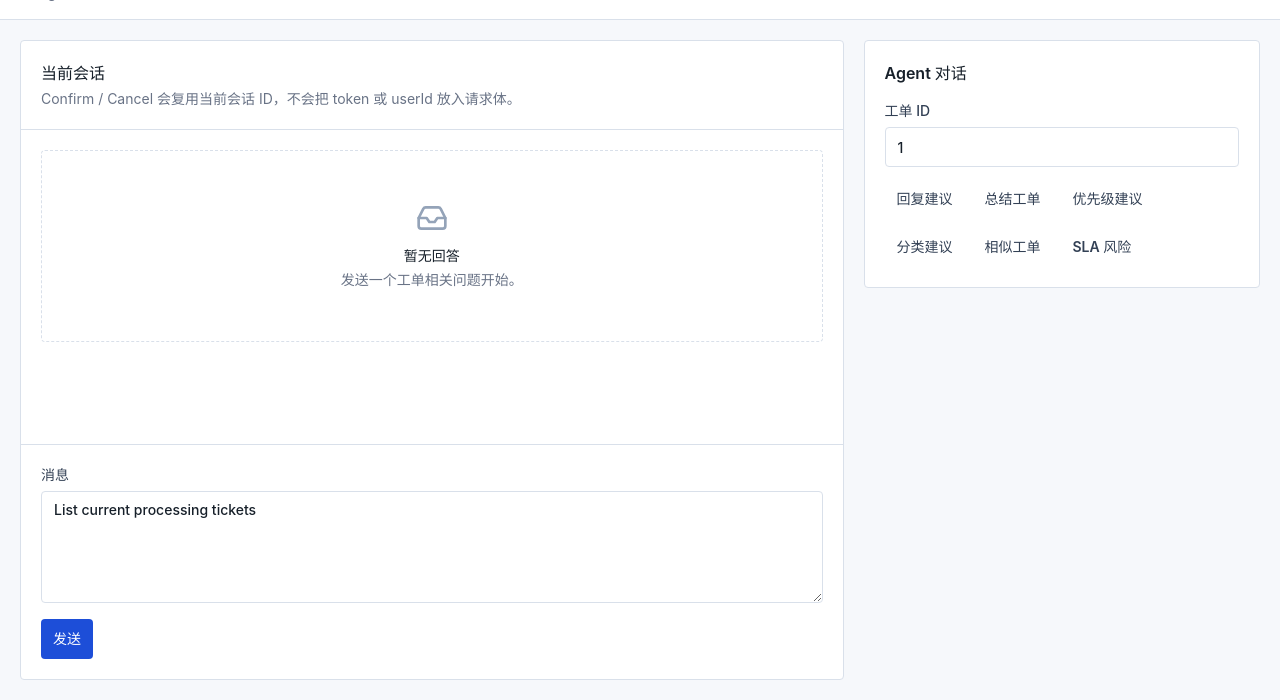
Test: AiPage › renders forbidden card without clearing auth state
(page scrolled)
Click the button "发送": (67, 639) left=41, top=619, right=93, bottom=659
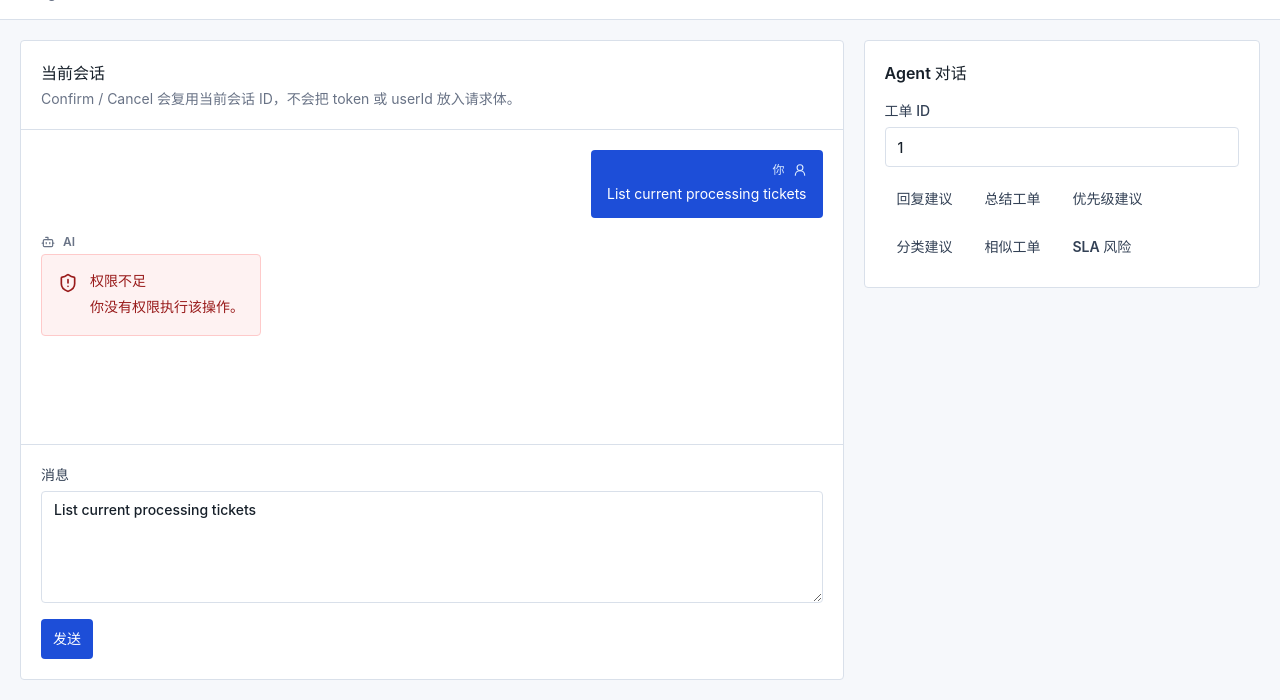
Expected: the text "权限不足" is shown, left=90, top=272, right=146, bottom=289
Expected: the text "你没有权限执行该操作。" is shown, left=90, top=295, right=244, bottom=319
